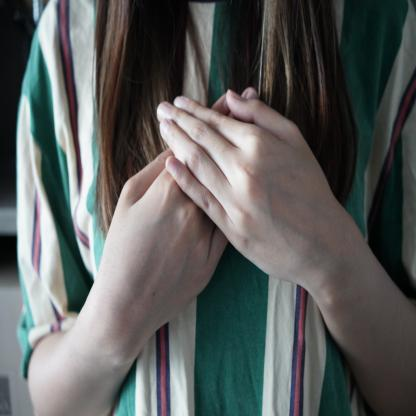Grieve: (76, 78, 385, 356)
